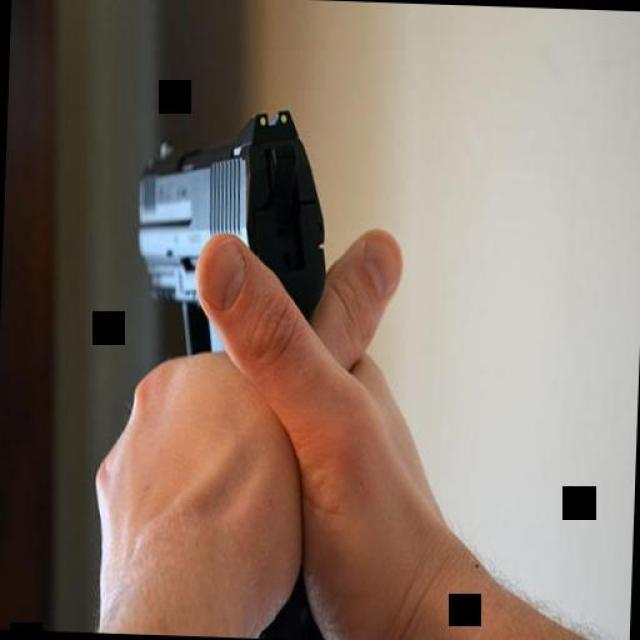gun: (118, 95, 342, 636)
